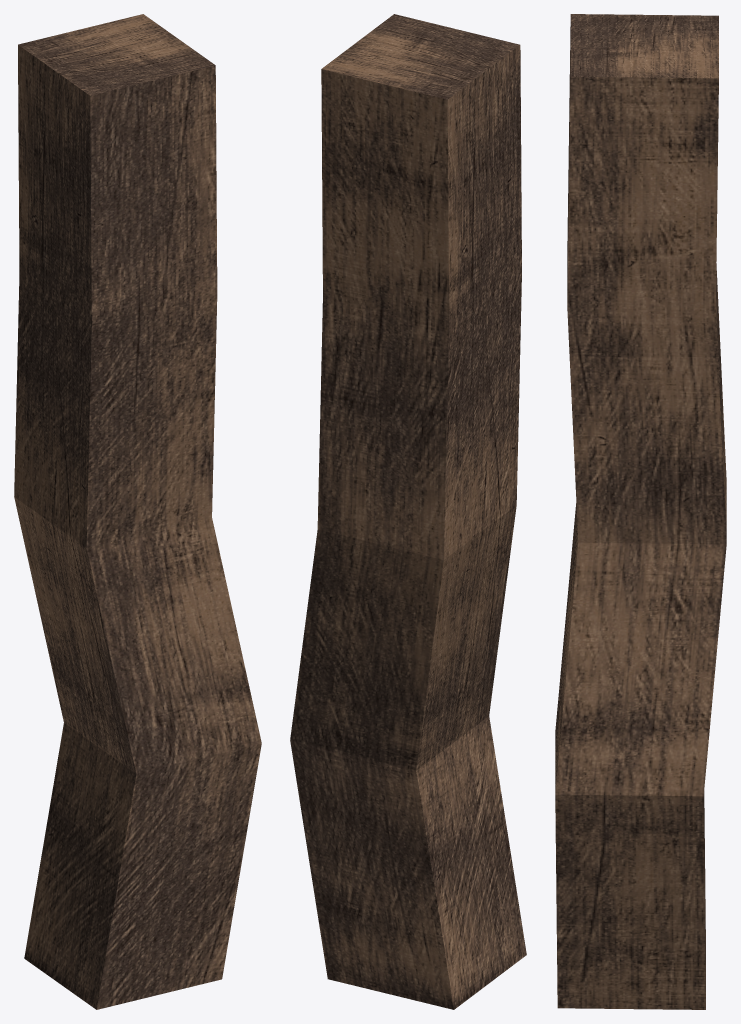
Rendered from Wood1.fbx.
3 views of the same model, side by side, from view 1: azimuth 30°, elevation 25°; view 2: azimuth 150°, elevation 25°; view 3: azimuth 270°, elevation 25° (orthographic). The views are drawn at different scales.
Parts seen in each view (by area): view 1: Cube.010; view 2: Cube.010; view 3: Cube.010.
Part boxes in pixels (x1=…): Cube.010: x1=14, y1=14, x2=261, y2=1009; Cube.010: x1=290, y1=14, x2=526, y2=1009; Cube.010: x1=555, y1=14, x2=726, y2=1009.
Bounding box in the file's own units: 9.46 × 50.22 × 8.36.
Materials: 1 (1 with a texture image).
